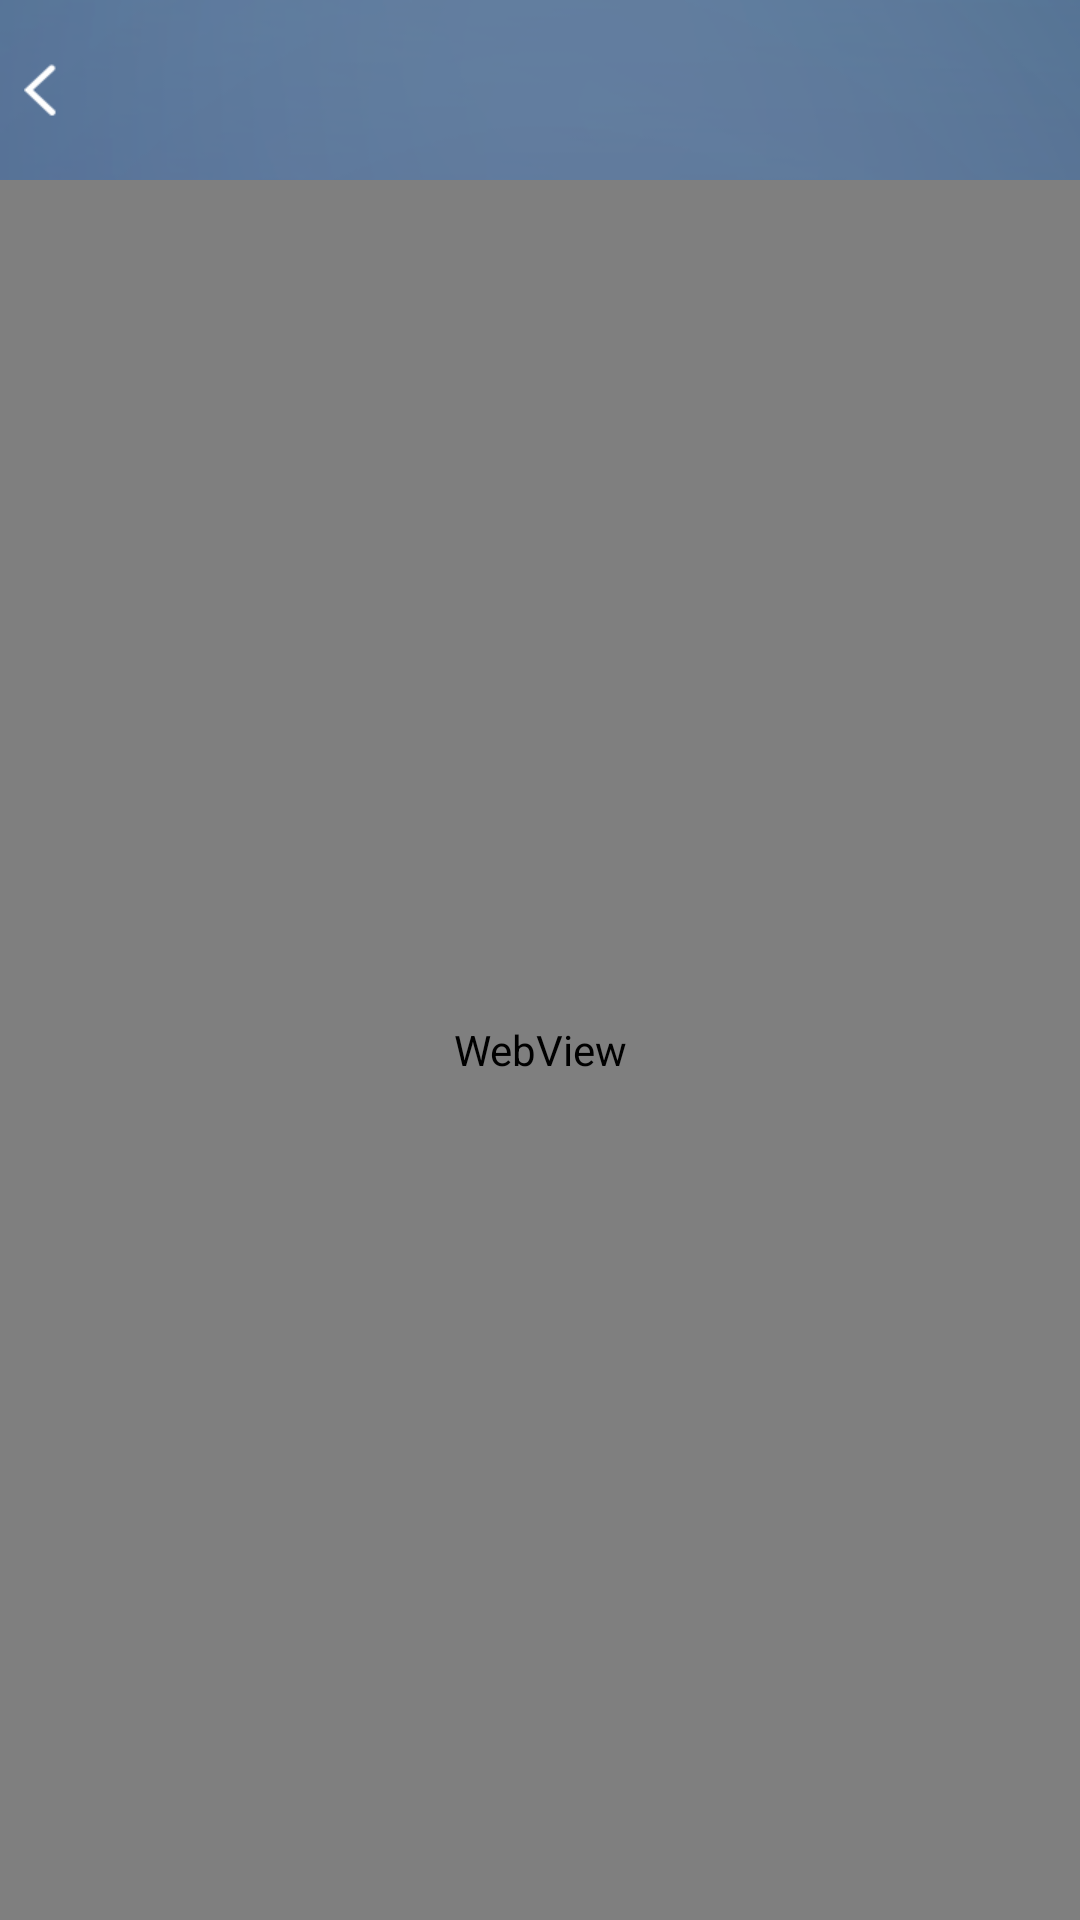

Named icons in this screenshot (1080*1920) and their bounding boxes, (x1, y1, x2, y2):
back: (24, 64, 56, 116)
